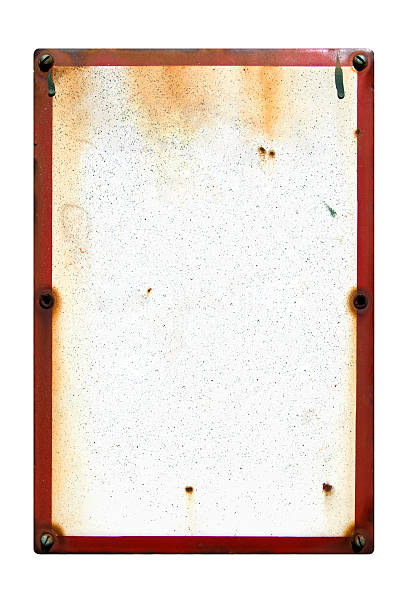rust: (120, 66, 216, 128), (237, 67, 285, 165), (66, 66, 93, 154), (337, 525, 378, 556), (36, 519, 72, 554), (340, 289, 378, 320), (36, 285, 62, 321), (35, 52, 63, 81), (314, 477, 337, 497), (181, 481, 201, 500)
